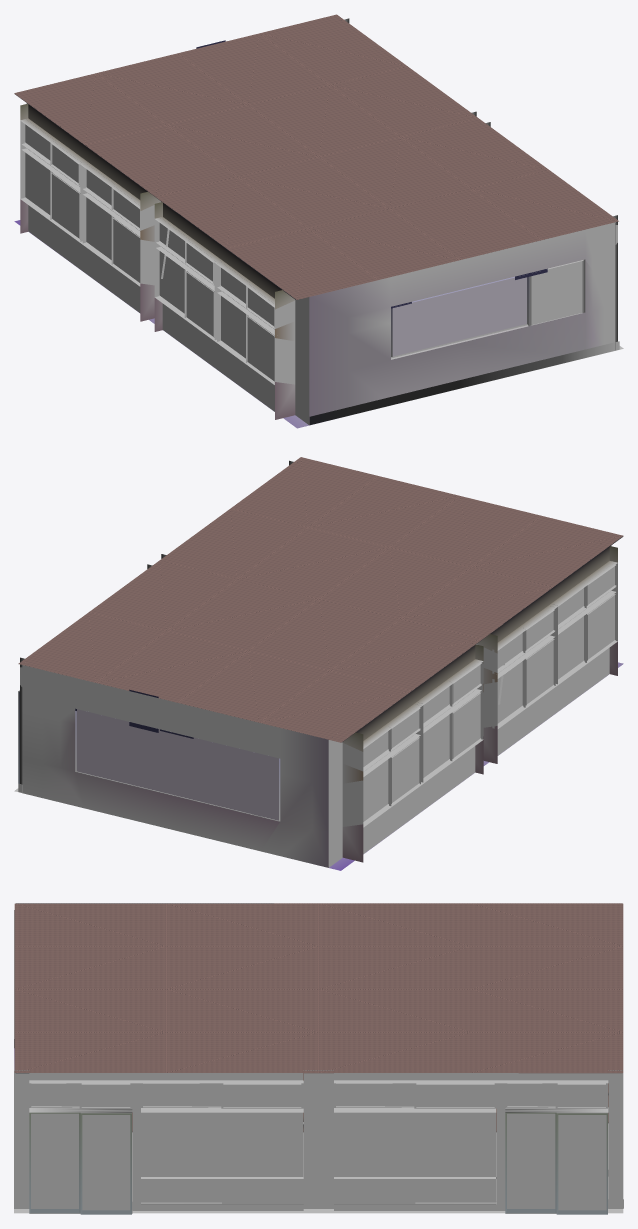
The model's file is JpClasRoom_OffSadow_evening.FBX.
3 renders of one model, top to bottom at view 1: azimuth 30°, elevation 25°; view 2: azimuth 150°, elevation 25°; view 3: azimuth 270°, elevation 25°, orthographic. The views are drawn at different scales.
Parts seen in each view (by area): view 1: crm_ceiling board_eve, crm_wallL_eve, crm_wallB_eve, crm_blackboardB_eve, crm_baseboards_B_eve000; view 2: crm_ceiling board_eve, crm_wallL_eve, rm_wallF_eve, crm_blackboardF_eve; view 3: crm_ceiling board_eve, crm_wallR_eve, crm_doorL_f_eve, crm_doorL_b_eve, crm_doorR_f_eve, crm_doorR_b_eve, crm_floor_eve.
Boxes of the visible parts, bbox=[...] form: crm_ceiling board_eve: bbox=[14, 14, 618, 299]; crm_wallL_eve: bbox=[20, 103, 309, 424]; crm_wallB_eve: bbox=[309, 222, 615, 424]; crm_blackboardB_eve: bbox=[391, 276, 529, 358]; crm_baseboards_B_eve000: bbox=[309, 341, 619, 424]; crm_ceiling board_eve: bbox=[18, 457, 623, 742]; crm_wallL_eve: bbox=[328, 545, 617, 867]; rm_wallF_eve: bbox=[22, 665, 328, 867]; crm_blackboardF_eve: bbox=[75, 709, 280, 821]; crm_ceiling board_eve: bbox=[14, 903, 623, 1073]; crm_wallR_eve: bbox=[14, 1070, 623, 1213]; crm_doorL_f_eve: bbox=[556, 1112, 607, 1214]; crm_doorL_b_eve: bbox=[80, 1112, 131, 1214]; crm_doorR_f_eve: bbox=[505, 1112, 556, 1213]; crm_doorR_b_eve: bbox=[29, 1112, 80, 1213]; crm_floor_eve: bbox=[14, 1048, 623, 1213].
Size of the model in its own units: 828 by 303 by 1201.
